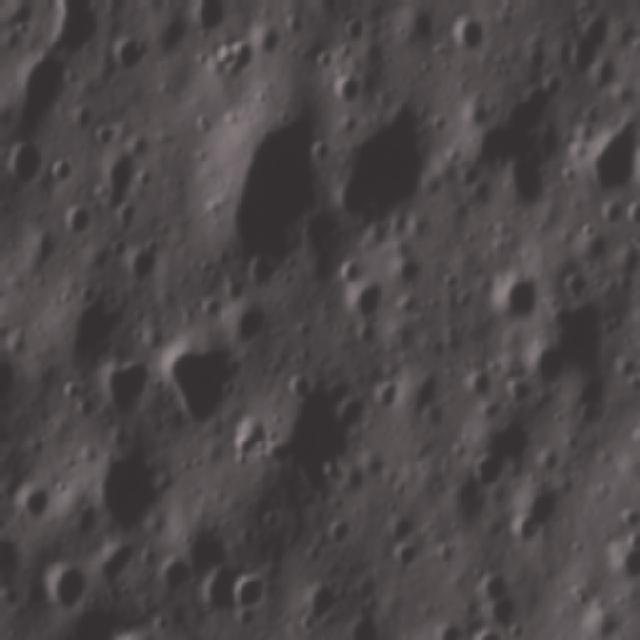crater: (190, 84, 328, 265), (257, 358, 372, 492), (323, 95, 431, 228), (152, 322, 250, 428), (522, 289, 612, 388), (82, 438, 167, 539), (42, 277, 126, 369), (0, 46, 75, 129), (453, 102, 513, 186), (580, 116, 640, 192), (93, 350, 153, 425), (36, 0, 101, 60), (187, 554, 241, 624), (38, 552, 97, 616), (289, 572, 342, 640), (508, 468, 566, 528), (485, 265, 541, 324), (225, 554, 277, 614), (207, 25, 253, 92), (99, 607, 191, 640), (0, 128, 48, 190), (478, 585, 536, 633), (106, 23, 152, 83), (342, 270, 388, 328), (228, 293, 272, 352), (0, 513, 34, 585), (146, 548, 192, 600), (226, 412, 271, 460), (11, 480, 55, 528), (577, 592, 621, 640), (601, 528, 640, 582), (465, 562, 513, 602), (124, 240, 165, 286), (466, 449, 508, 493), (243, 246, 285, 288), (502, 511, 548, 549), (365, 369, 406, 411), (323, 69, 366, 109), (40, 147, 80, 188), (318, 508, 357, 550), (57, 199, 95, 241), (500, 370, 538, 408), (336, 8, 372, 48), (461, 359, 496, 399), (182, 0, 225, 32), (387, 536, 418, 569), (618, 499, 640, 538), (368, 0, 418, 17), (466, 623, 514, 640), (626, 137, 640, 191), (0, 0, 43, 2)
